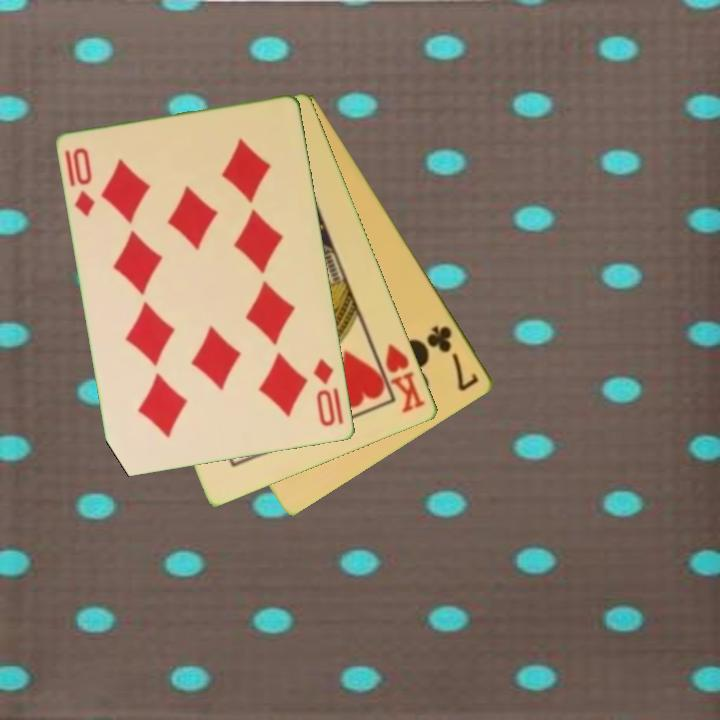10d: (309, 355, 339, 430), (70, 144, 98, 220)
7c: (423, 322, 483, 395)
Kh: (370, 340, 429, 416)
